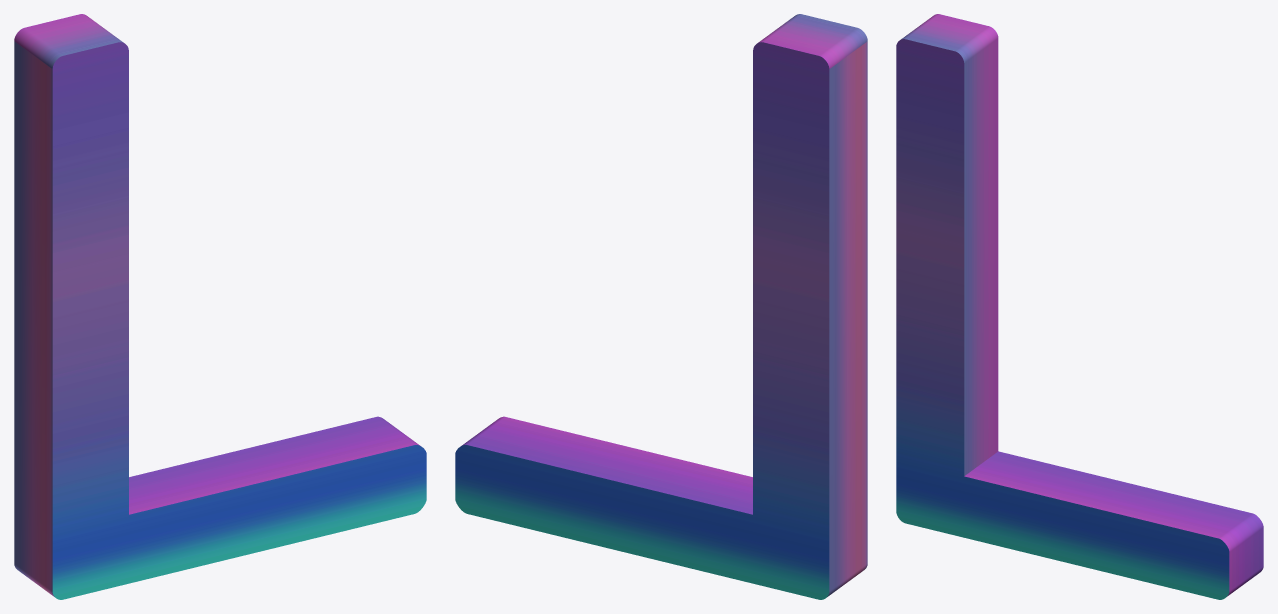
File: Letter C.gltf
The picture shows the model from 3 angles, left to right: view 1: azimuth 30°, elevation 25°; view 2: azimuth 150°, elevation 25°; view 3: azimuth 330°, elevation 25°; orthographic projection. The views are drawn at different scales.
Visible parts, largest first — view 1: Text; view 2: Text; view 3: Text.
Part boxes in pixels (x1=…): Text: x1=14, y1=14, x2=426, y2=599; Text: x1=455, y1=14, x2=867, y2=599; Text: x1=896, y1=14, x2=1263, y2=599.
Size of the model in its own units: 0.0562 by 0.078 by 0.01.
Materials: 1 (1 with a texture image).
